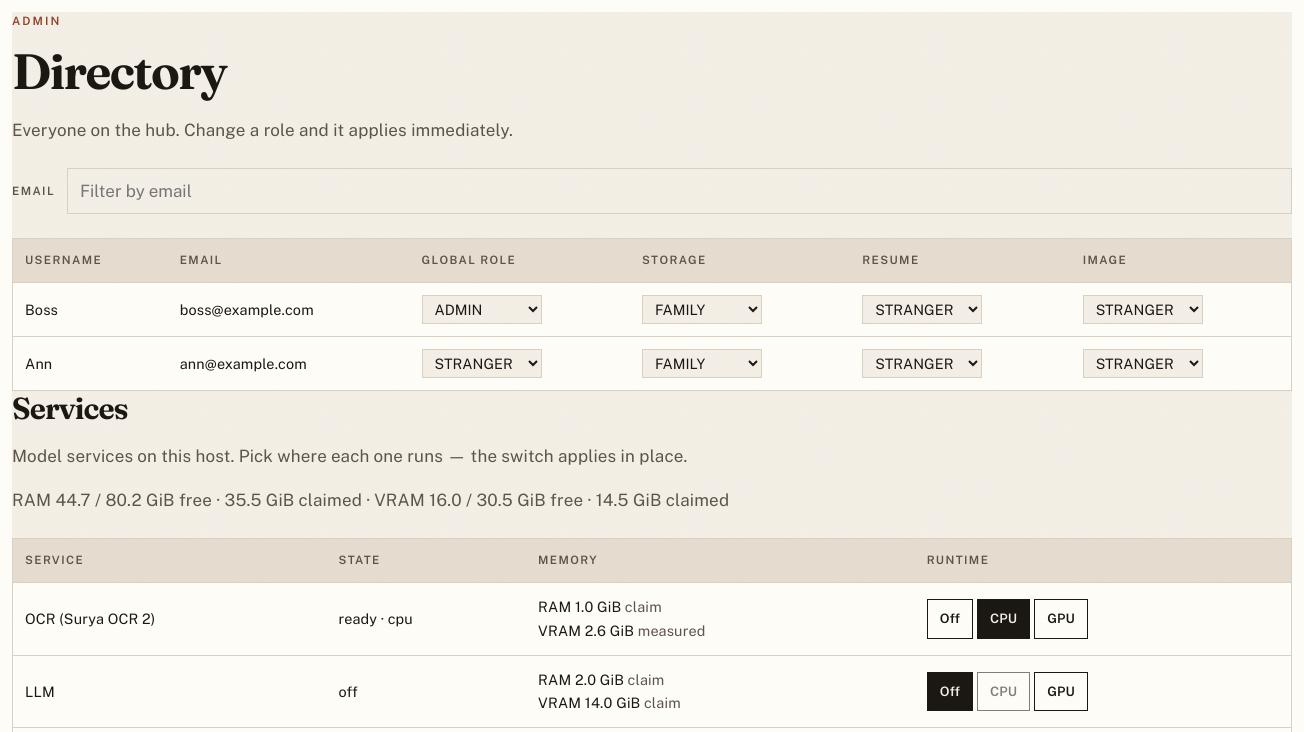
Scenario: Admin › shows LAST_ADMIN and leaves the select on the previous value
The width and height of the screenshot is (1304, 732).
Expected: the text "Boss" is shown, [13,283,168,337]
Select "FAMILY" in the dropdown named "Site role for Boss" at (482, 310), box [422,295,542,324]
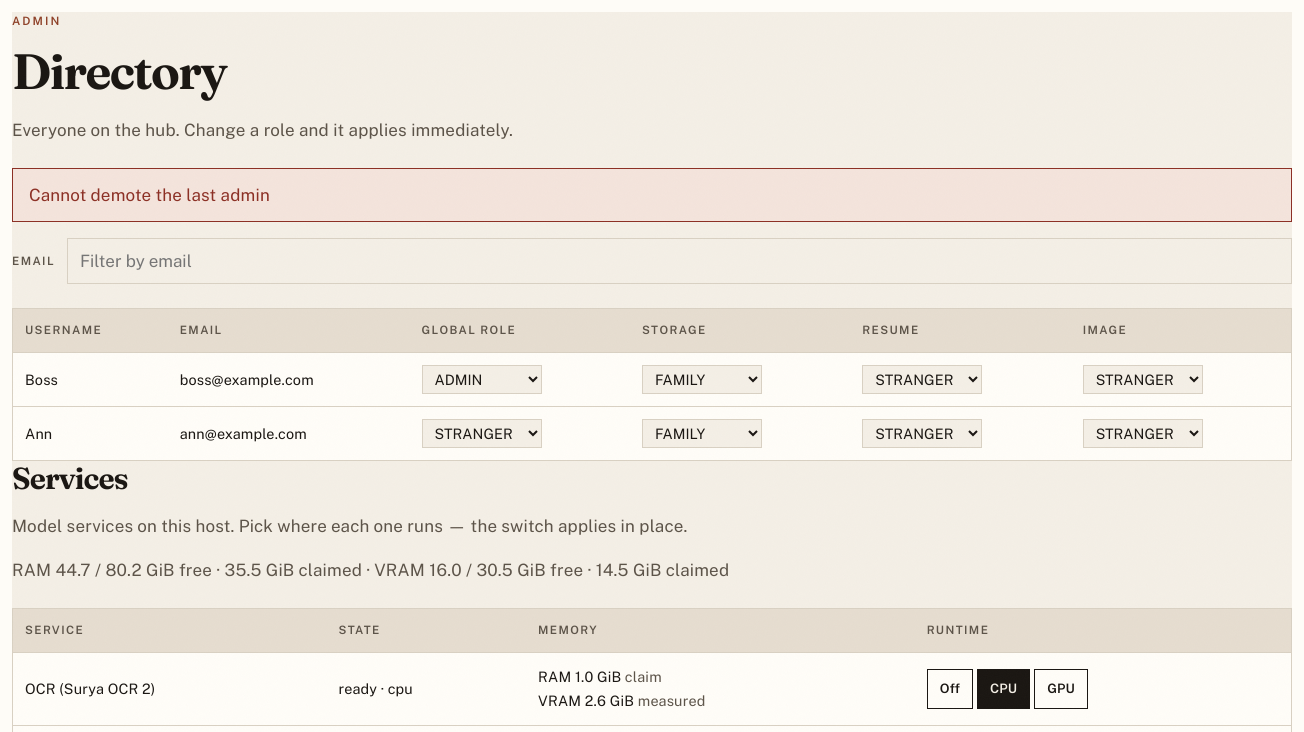
Expected: the text "Cannot demote the last admin" is shown, [12,168,1292,222]
